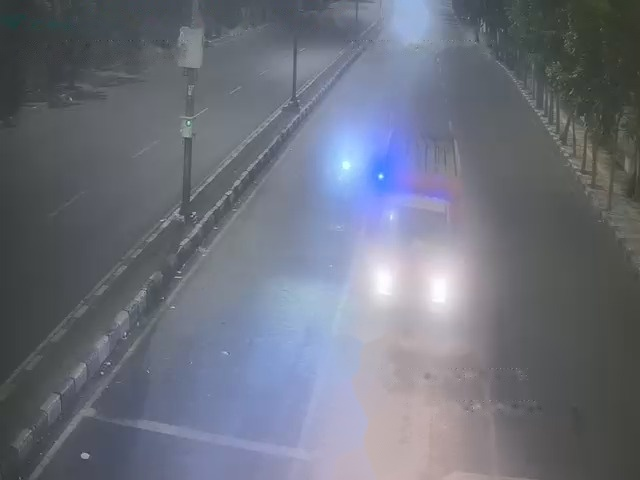Motor: (340, 153, 351, 192)
Truk: (381, 120, 457, 314)
